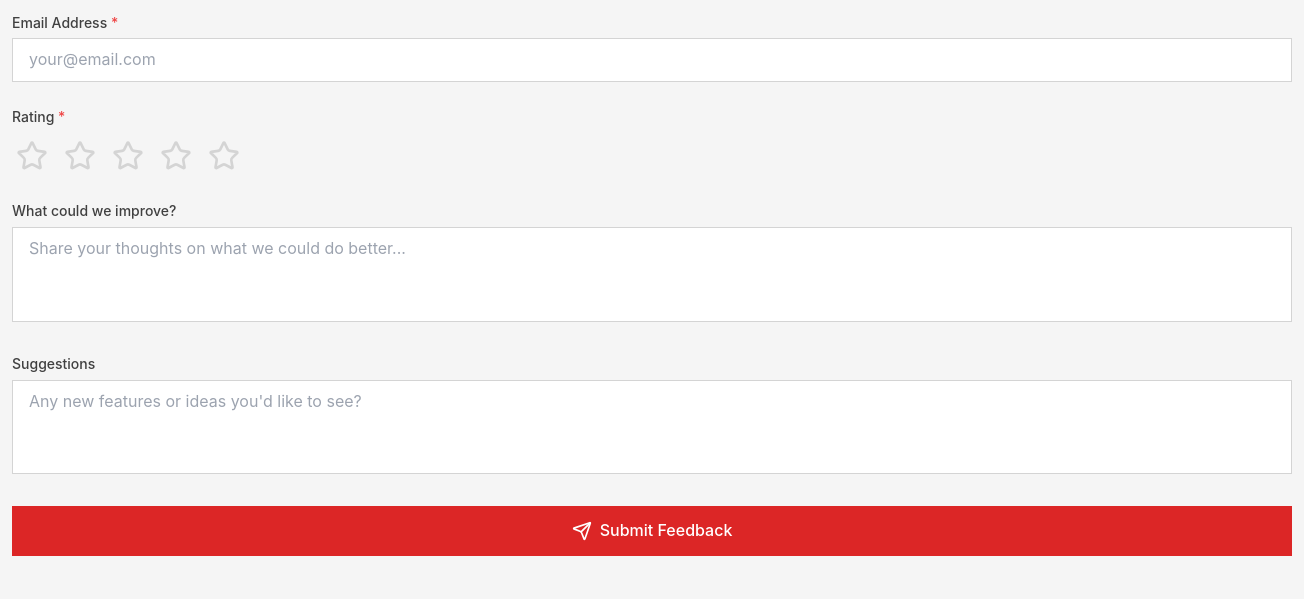
Scenario: PublicFeedbackForm › shows rating label on selection
The width and height of the screenshot is (1304, 599).
Click the 1st button. click: (32, 156)
box: [12, 136, 52, 176]
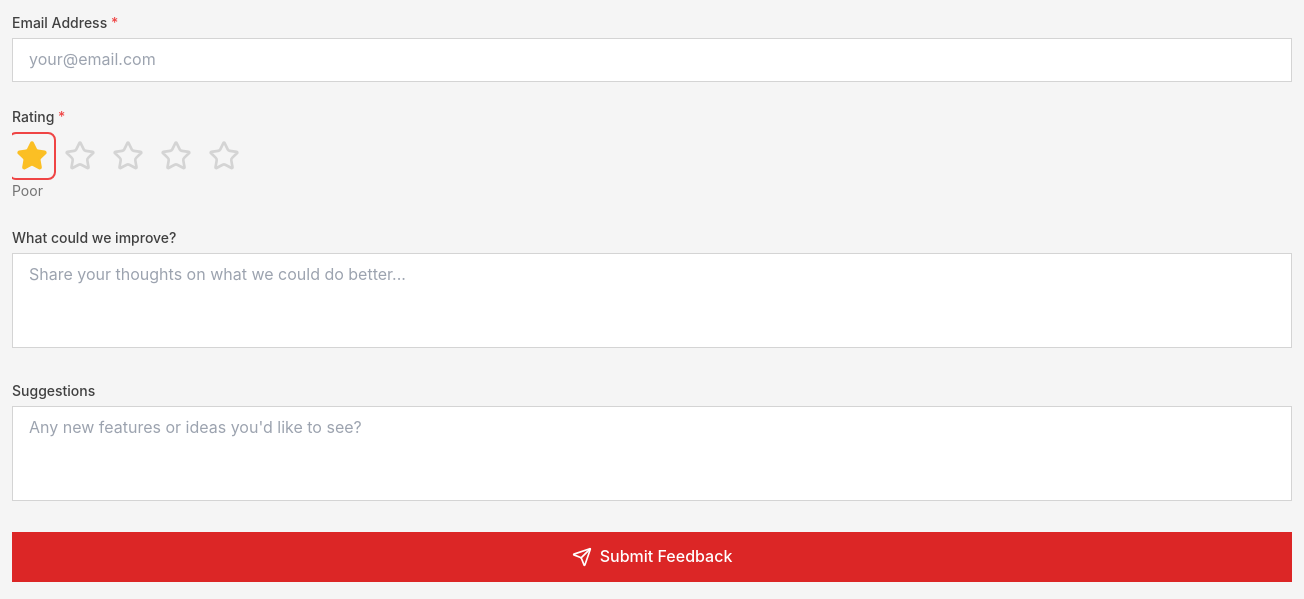
Result: the text "Poor" is shown at [12, 182, 43, 199]
Click the 5th button. click: (224, 156)
box: [204, 136, 244, 176]
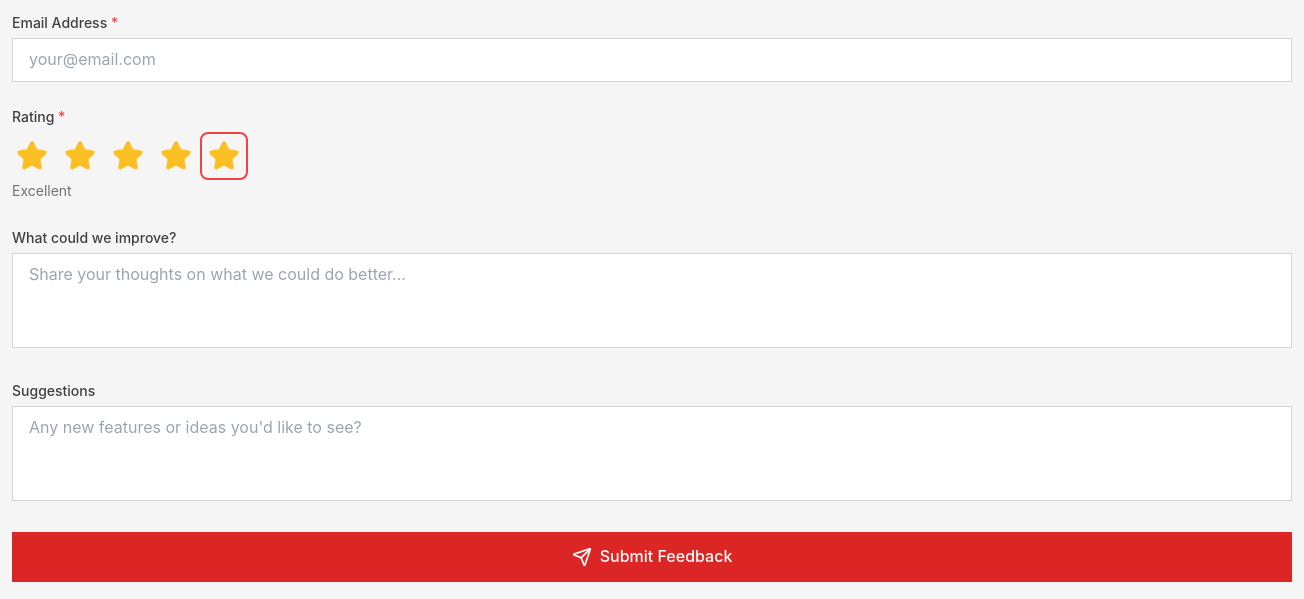
Result: the text "Excellent" is shown at [12, 182, 72, 199]
